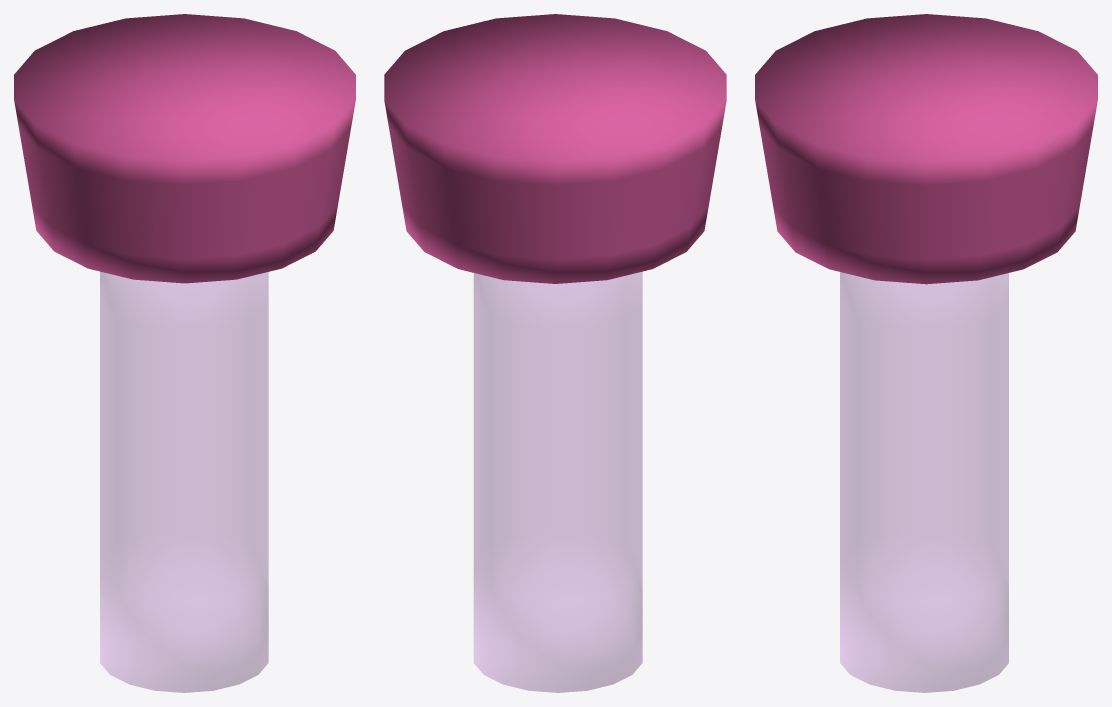
Rendered from receiver.glb.
3 renders of one model, left to right at view 1: azimuth 30°, elevation 25°; view 2: azimuth 150°, elevation 25°; view 3: azimuth 270°, elevation 25°, orthographic.
Parts seen in each view (by area): view 1: GNSS接收机; view 2: GNSS接收机; view 3: GNSS接收机.
Part boxes in pixels (x1,y1,x2,y2): GNSS接收机: [14, 14, 355, 692]; GNSS接收机: [384, 14, 726, 692]; GNSS接收机: [755, 14, 1097, 692].
Bounding box in the file's own units: 63.18 × 114 × 62.22.
